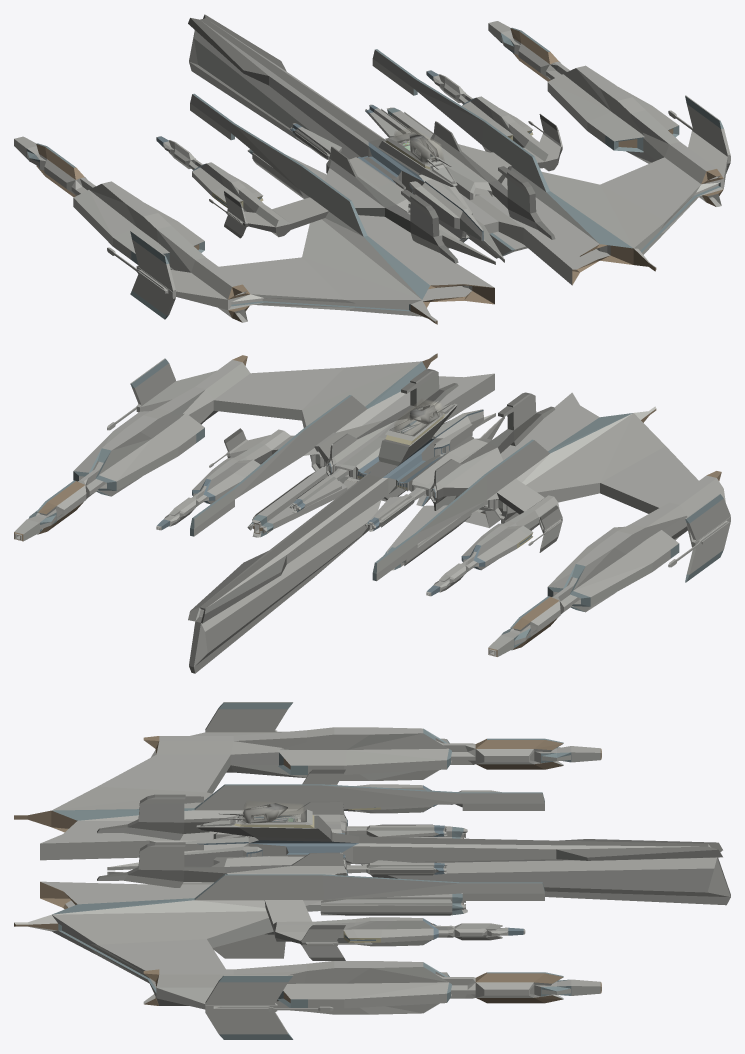
File: ghaanon.dae
3 renders of one model, top to bottom at view 1: azimuth 30°, elevation 25°; view 2: azimuth 150°, elevation 25°; view 3: azimuth 270°, elevation 25°, orthographic.
Visible parts, largest first — view 1: Main_Armwing, Center, Mesh_001, Mesh; view 2: Main_Armwing, Center, Mesh_001; view 3: Main_Armwing, Center, Mesh_001, Mesh.
Part boxes in pixels (x1,y1,x2,y2): Main_Armwing: (14,21,730,324); Center: (156,14,562,263); Mesh_001: (393,127,443,165); Mesh: (409,134,438,162); Main_Armwing: (14,353,730,656); Center: (156,369,562,673); Mesh_001: (393,399,444,435); Main_Armwing: (14,702,601,1039); Center: (97,769,730,960); Mesh_001: (240,800,305,825); Mesh: (243,803,287,823).
Bounding box in the file's own units: 19.05 × 20.76 × 3.45.
